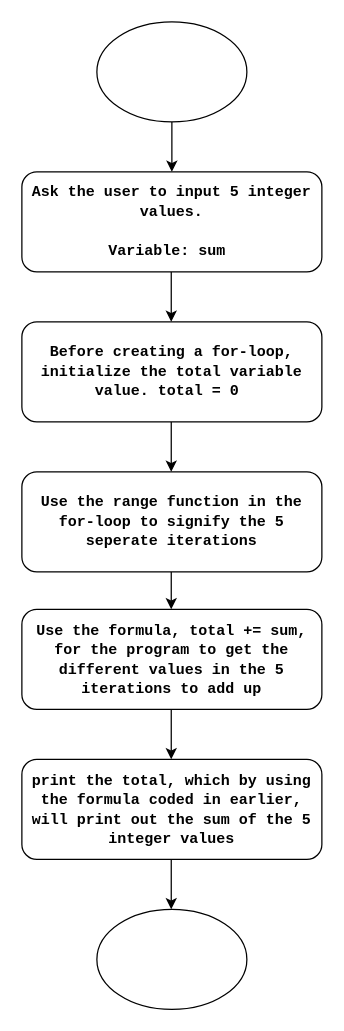
Image size: 344x1031. Some labels were removed from this diagram. The shapes that lost their labels are listed below. From the top down, each one's box as (x1, y1, x2, y2) in pixels, then its label:
(96, 21, 247, 122): Start
(96, 908, 247, 1009): End
